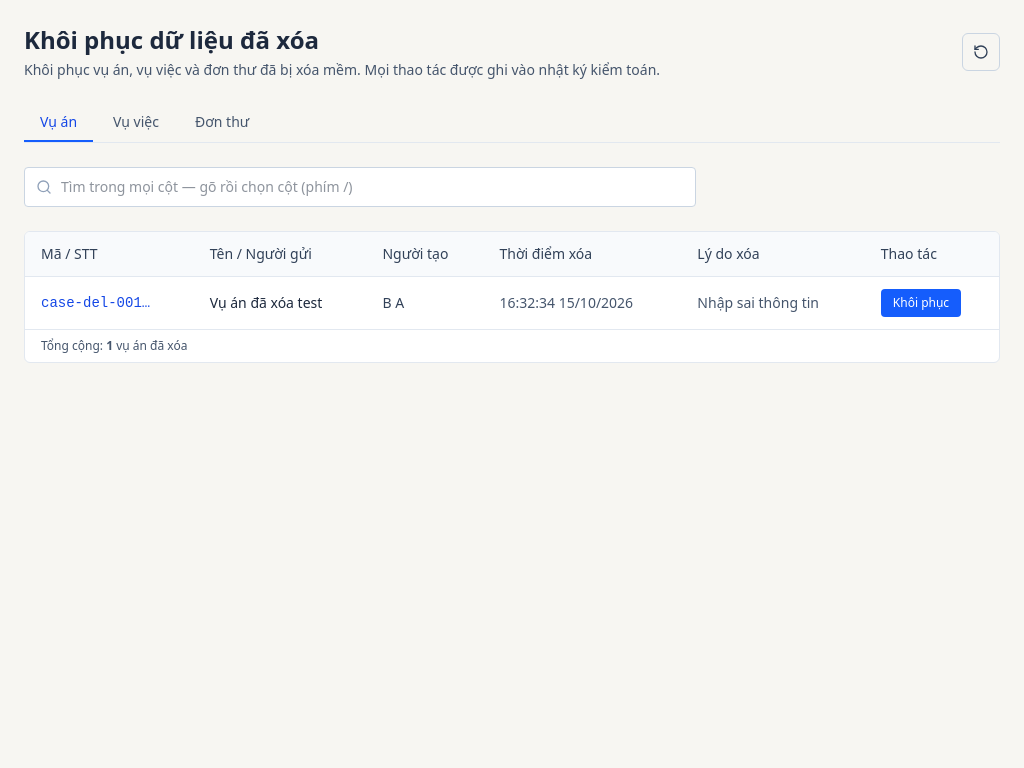
Test case: RestorePage v0.32.0.0 › FE-R2: click Khôi phục → modal opens + reason min 10 chars validation
Expected: the text "Vụ án đã xóa test" is shown, [194,276,366,329]
Click the button with test id "btn-restore-case-del-001" at (921, 303), box [881,289,961,317]
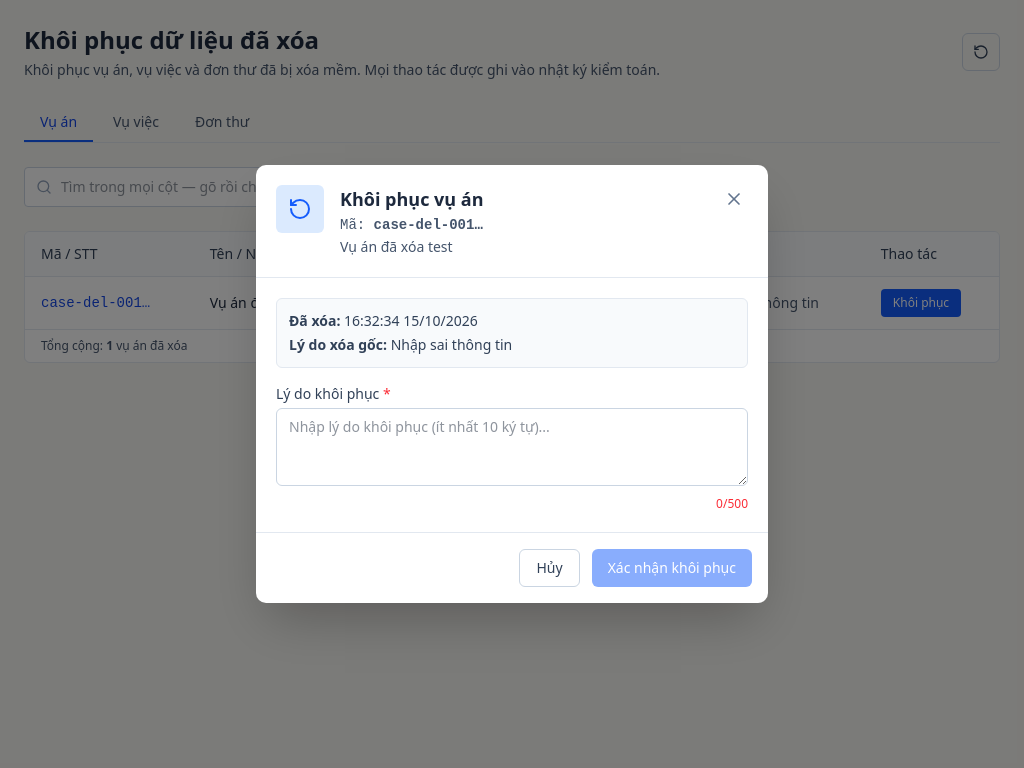
Expected: the dialog with test id "restore-modal" is shown
Expected: the button with test id "btn-confirm-restore" is disabled, [592,549,752,587]
Expected: the text with test id "restore-reason-counter" reads "0/500", [716,496,748,512]
Note: Type valid reason
Type "Khôi phục đúng theo yêu cầu" into the text box with test id "restore-reason-input" at (512, 447), box [276,408,748,486]
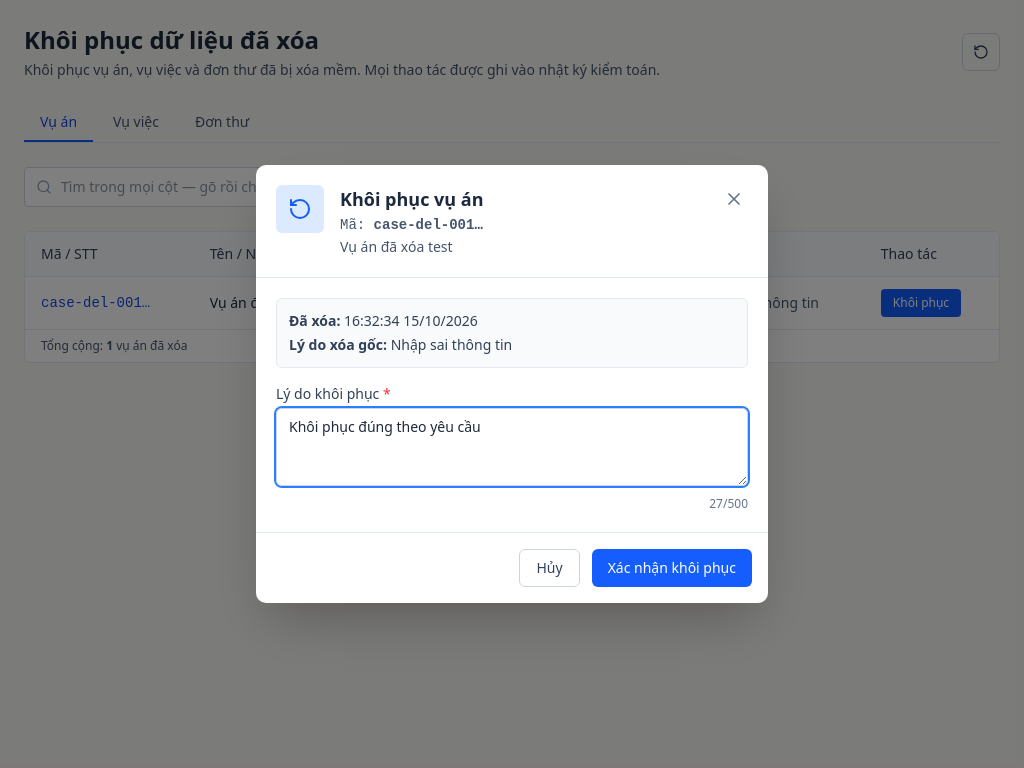
Expected: the button with test id "btn-confirm-restore" is enabled, [592,549,752,587]
